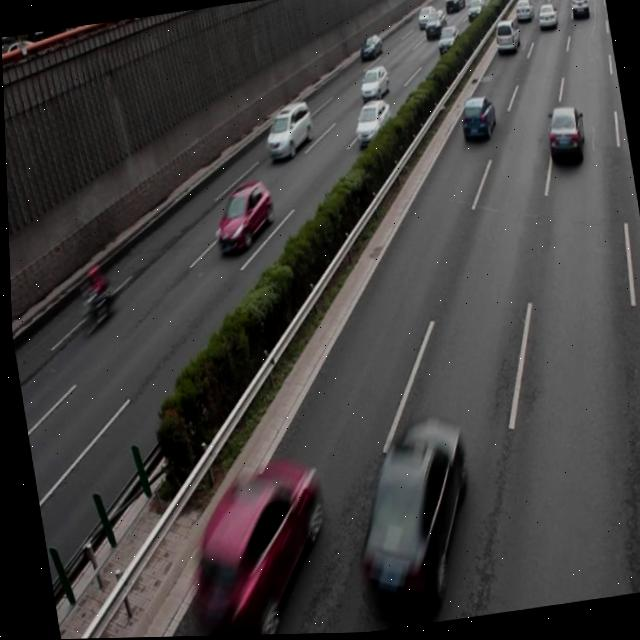car: (334, 412, 482, 618), (174, 454, 330, 637), (206, 179, 275, 255), (257, 98, 314, 162), (540, 105, 584, 165), (348, 97, 392, 147), (455, 94, 496, 146), (356, 64, 390, 106)
